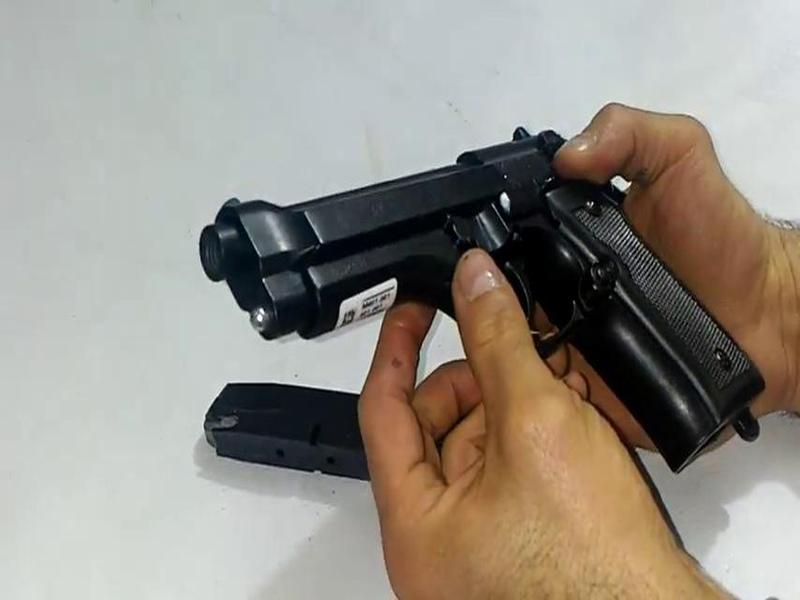Pistola: (201, 77, 772, 448)
